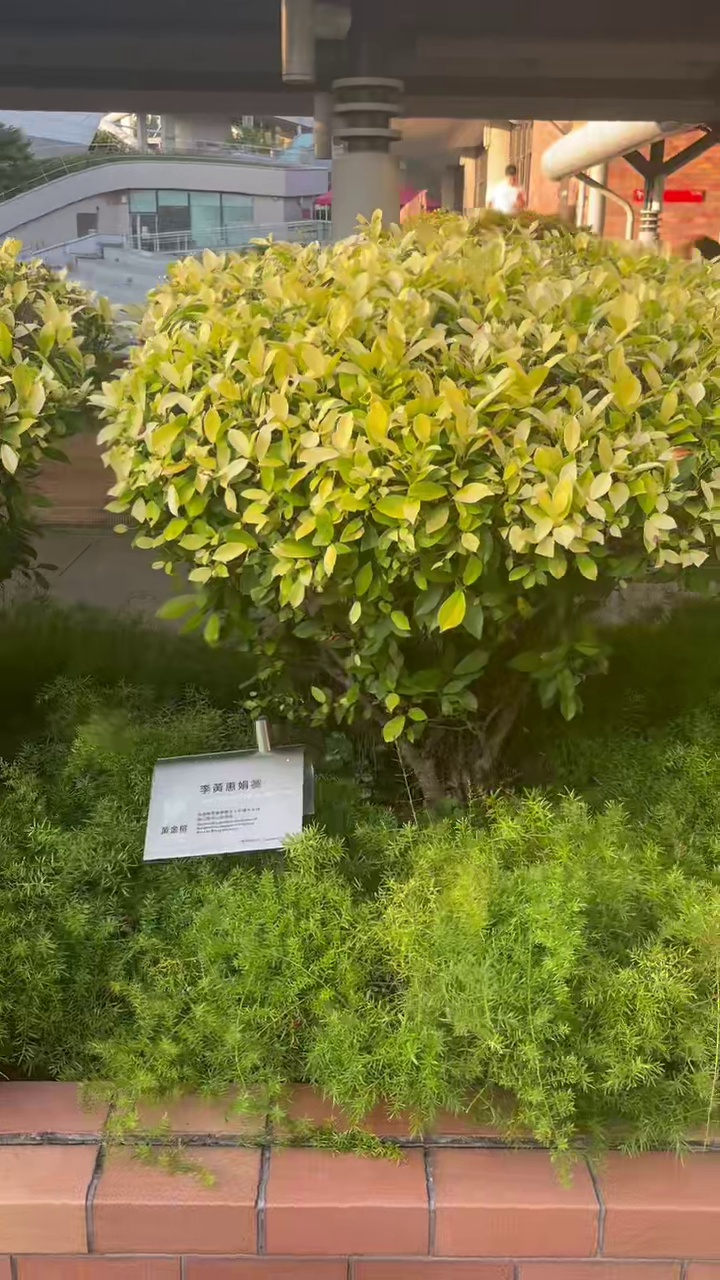Golden-leaves Fig: (98, 215, 719, 799)
